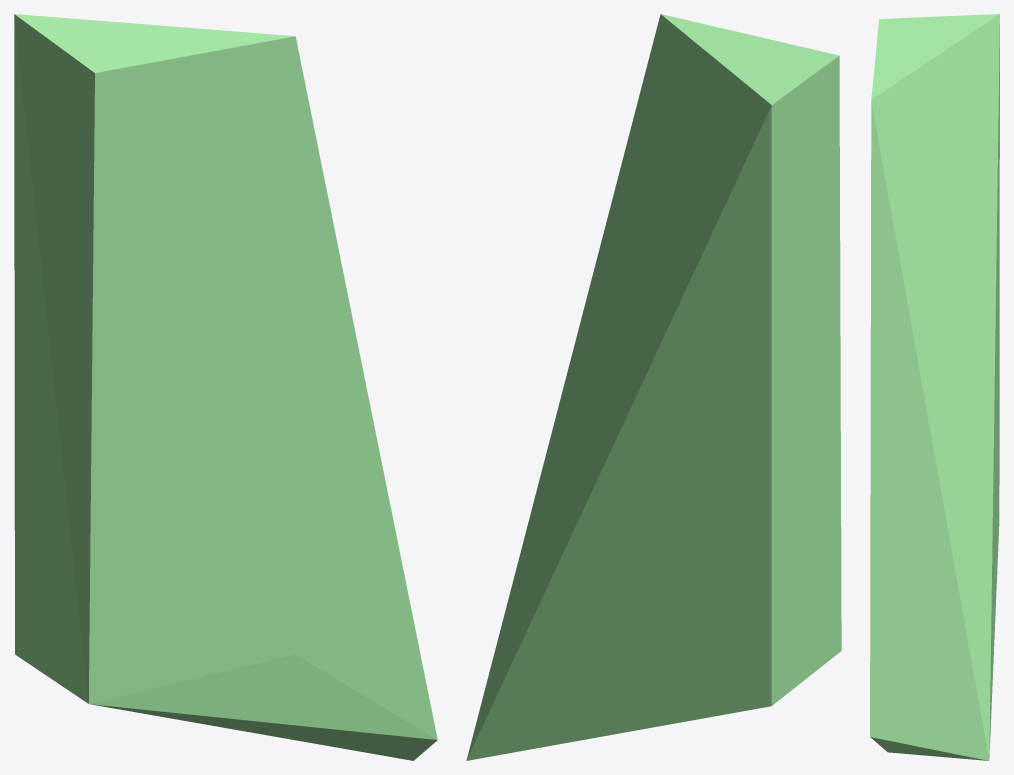
The model's file is exported_panda_rightFinger_coll_5.dae.
The picture shows the model from 3 angles, left to right: view 1: azimuth 30°, elevation 25°; view 2: azimuth 150°, elevation 25°; view 3: azimuth 270°, elevation 25°; orthographic projection. The views are drawn at different scales.
Parts seen in each view (by area): view 1: node; view 2: node; view 3: node.
Boxes of the visible parts, <box> form: node: <box>14,14,437,760</box>; node: <box>466,14,841,760</box>; node: <box>870,14,999,760</box>.
Bounding box in the file's own units: 0.00547 × 0.012 × 0.00229.
